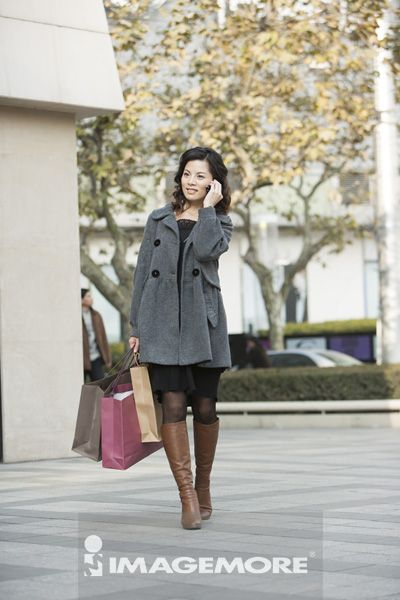talk: (180, 166, 223, 211)
